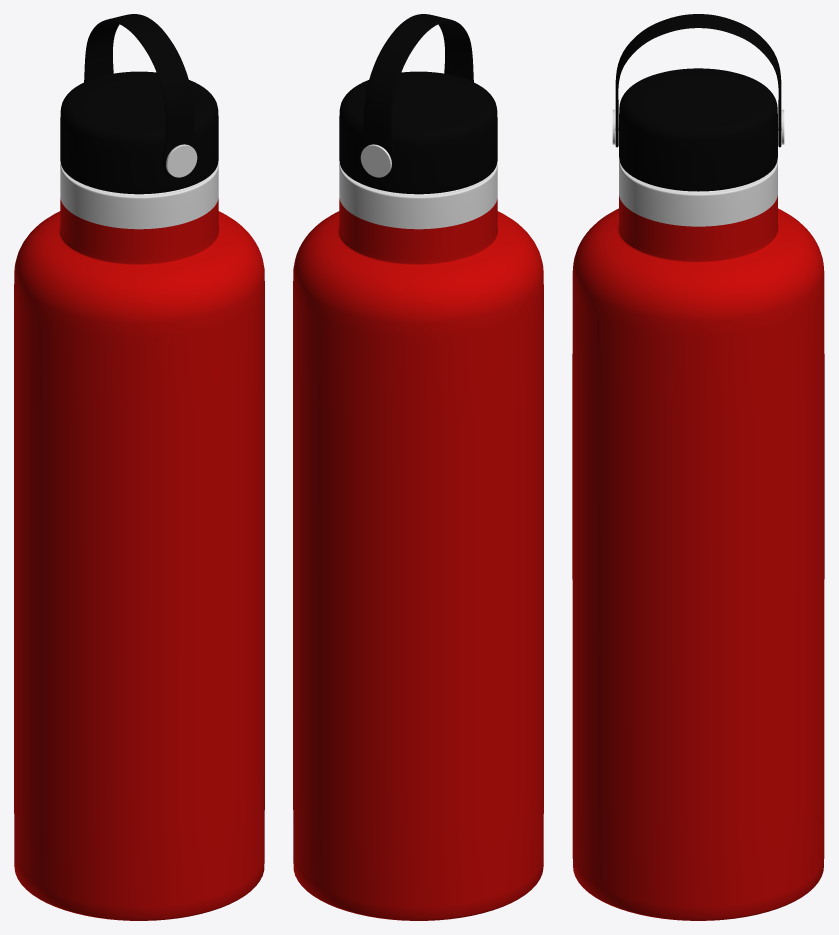
Rendered from WaterBottle.fbx.
3 views of the same model, side by side, from view 1: azimuth 30°, elevation 25°; view 2: azimuth 150°, elevation 25°; view 3: azimuth 270°, elevation 25° (orthographic).
Parts seen in each view (by area): view 1: Circle, Circle.002, Circle.001; view 2: Circle, Circle.002, Circle.001; view 3: Circle, Circle.002.
Boxes of the visible parts, <box> form: Circle: <box>14,71,264,920</box>; Circle.002: <box>84,14,196,178</box>; Circle.001: <box>166,144,197,177</box>; Circle: <box>293,71,543,920</box>; Circle.002: <box>361,14,473,178</box>; Circle.001: <box>360,144,391,177</box>; Circle: <box>572,68,824,920</box>; Circle.002: <box>615,14,781,147</box>.
Size of the model in its own units: 199 by 739 by 199.
